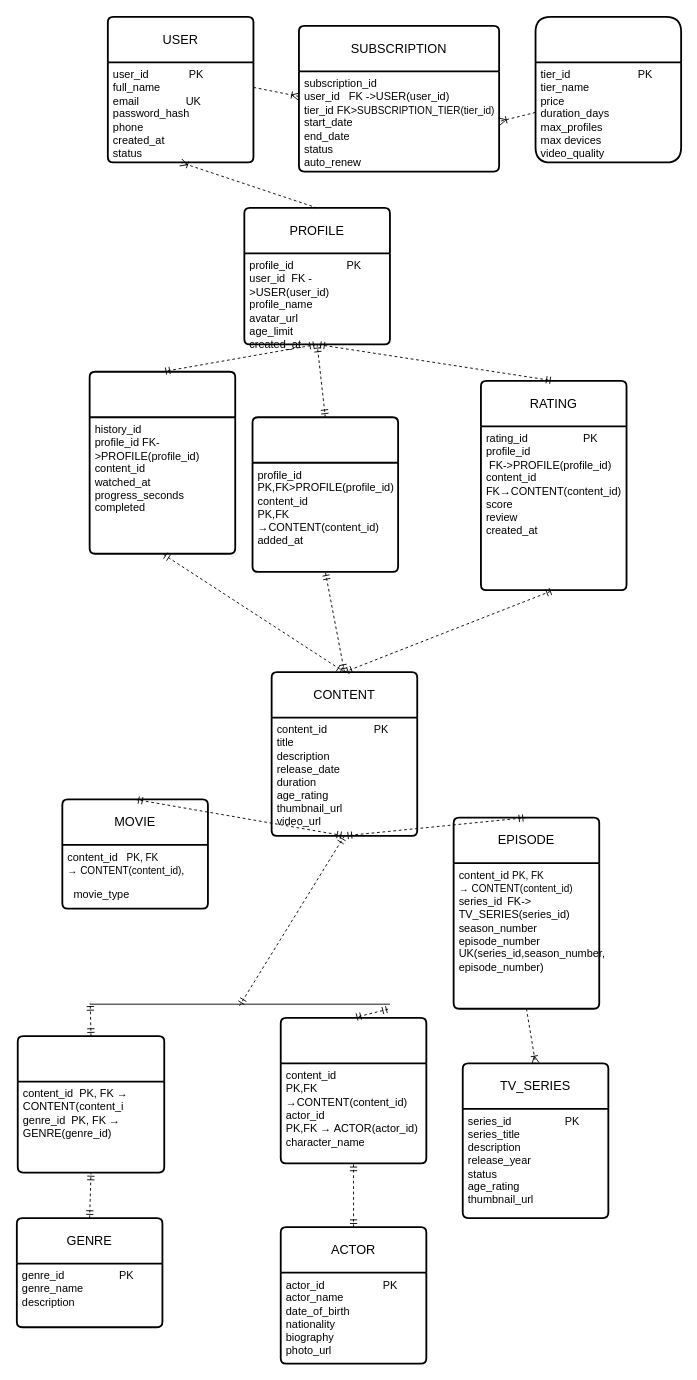
Image size: 697x1380. Some labels were removed from this diagram. Here are the shapes that lost their labels. From the top down, the box of each, then its label:
(534, 15, 682, 163): SUBSCRIPTION_TIER
(88, 370, 236, 554): WATCH_HISTORY
(251, 416, 399, 572): WATCHLIST
(16, 1035, 165, 1173): CONTENT_GENRE
(279, 1016, 427, 1164): CONTENT_ACTOR
